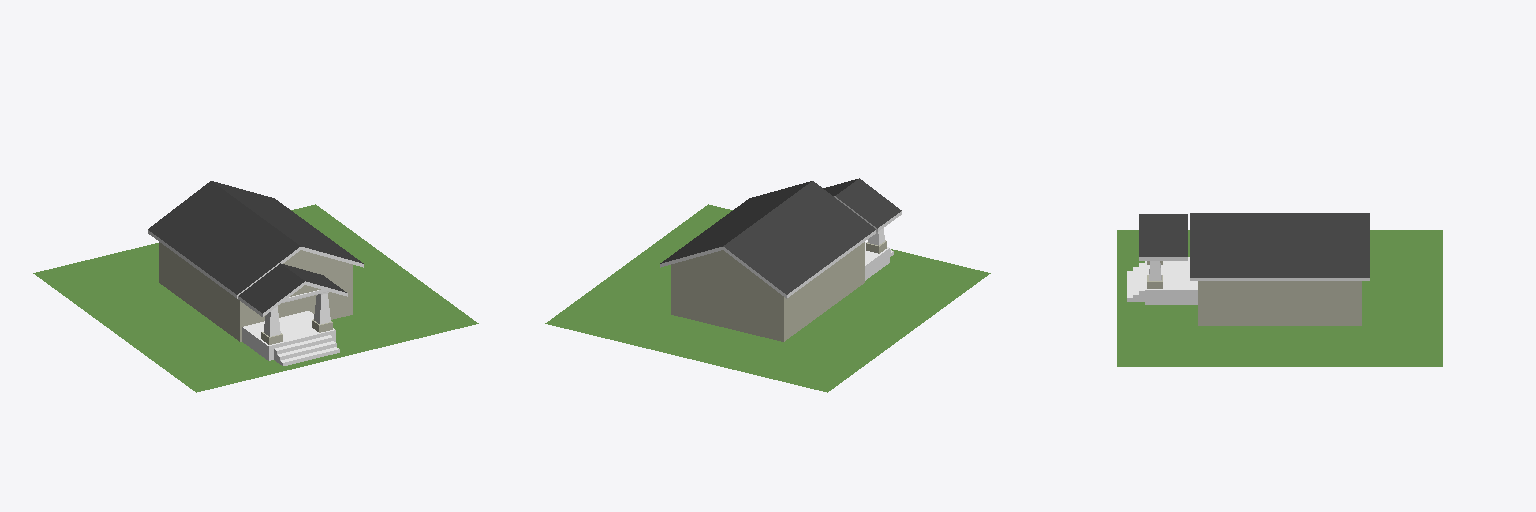
Rendered from craftsman-colored.obj.
3 views of the same model, side by side, from view 1: azimuth 30°, elevation 25°; view 2: azimuth 150°, elevation 25°; view 3: azimuth 270°, elevation 25° (orthographic).
Parts seen in each view (by area): view 1: craftsman-colored.obj; view 2: craftsman-colored.obj; view 3: craftsman-colored.obj.
Part boxes in pixels (bbox=[...]): craftsman-colored.obj: bbox=[33, 181, 478, 392]; craftsman-colored.obj: bbox=[545, 178, 990, 392]; craftsman-colored.obj: bbox=[1117, 213, 1442, 366].
Size of the model in its own units: 20 by 5.75 by 20.